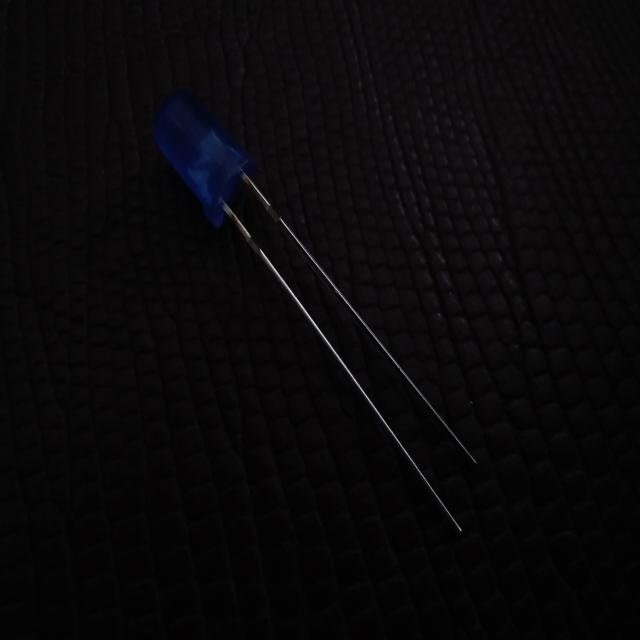blue_led: (153, 87, 258, 229)
